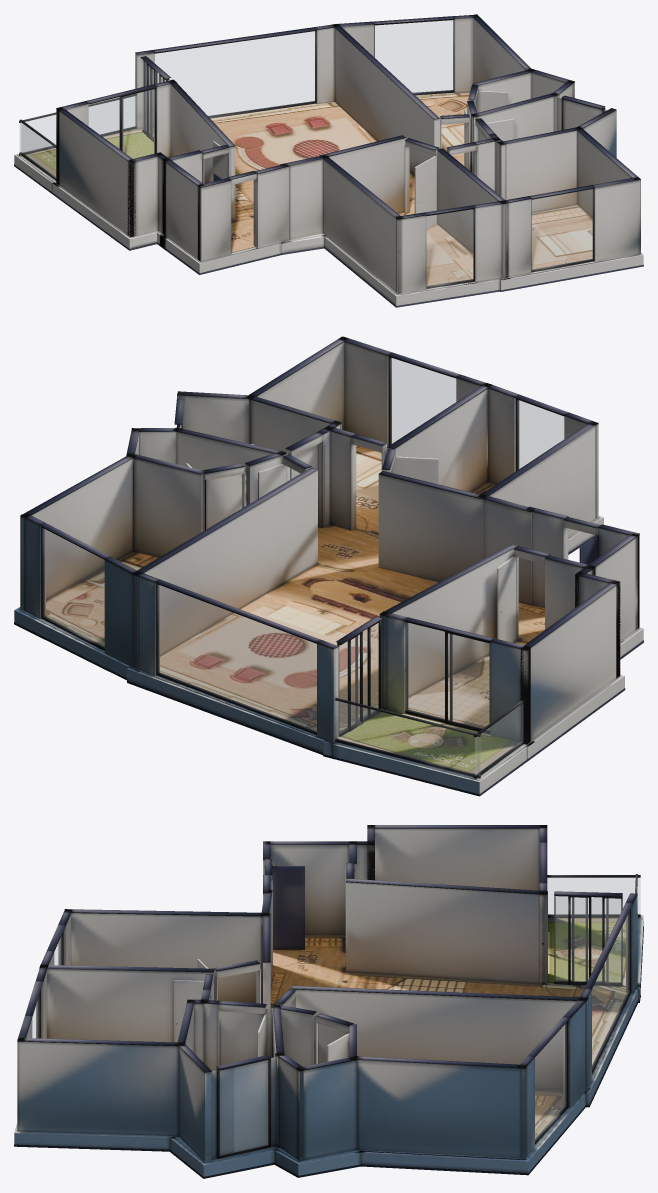
3 views of the same model, one above another, from view 1: azimuth 30°, elevation 25°; view 2: azimuth 150°, elevation 25°; view 3: azimuth 270°, elevation 25° (orthographic). The views are drawn at different scales.
Visible parts, largest first — view 1: plan, glass2_m, glass3_m, glass6_m, glass5_m, glass0_m, railg0_m, railg3_m, glass1_m; view 2: plan, glass2_m, glass0_m, railg0_m, glass3_m, glass6_m, glass1_m, glass5_m, railg3_m; view 3: plan, glass1_m, glass4_m, glass2_m, glass3_m, railg3_m.
Boxes of the visible parts, x1=… form: plan: x1=14, y1=14, x2=643, y2=307; glass2_m: x1=154, y1=31, x2=315, y2=116; glass3_m: x1=375, y1=20, x2=452, y2=92; glass6_m: x1=532, y1=189, x2=592, y2=269; glass5_m: x1=427, y1=209, x2=473, y2=286; glass0_m: x1=89, y1=89, x2=154, y2=158; railg0_m: x1=19, y1=96, x2=135, y2=153; railg3_m: x1=21, y1=123, x2=55, y2=177; glass1_m: x1=143, y1=60, x2=165, y2=137; plan: x1=14, y1=336, x2=643, y2=796; glass2_m: x1=158, y1=585, x2=316, y2=731; glass0_m: x1=406, y1=622, x2=489, y2=729; railg0_m: x1=336, y1=701, x2=480, y2=774; glass3_m: x1=43, y1=528, x2=104, y2=647; glass6_m: x1=391, y1=358, x2=455, y2=443; glass1_m: x1=339, y1=623, x2=378, y2=733; glass5_m: x1=518, y1=400, x2=563, y2=469; railg3_m: x1=475, y1=703, x2=523, y2=775; plan: x1=14, y1=825, x2=643, y2=1178; glass1_m: x1=554, y1=896, x2=620, y2=982; glass4_m: x1=220, y1=1060, x2=268, y2=1155; glass2_m: x1=592, y1=912, x2=629, y2=1067; glass3_m: x1=535, y1=1023, x2=566, y2=1140; railg3_m: x1=547, y1=878, x2=640, y2=914.
Bounding box in the file's own units: 13.45 × 2.62 × 14.29.
Materials: 2 (1 with a texture image).
